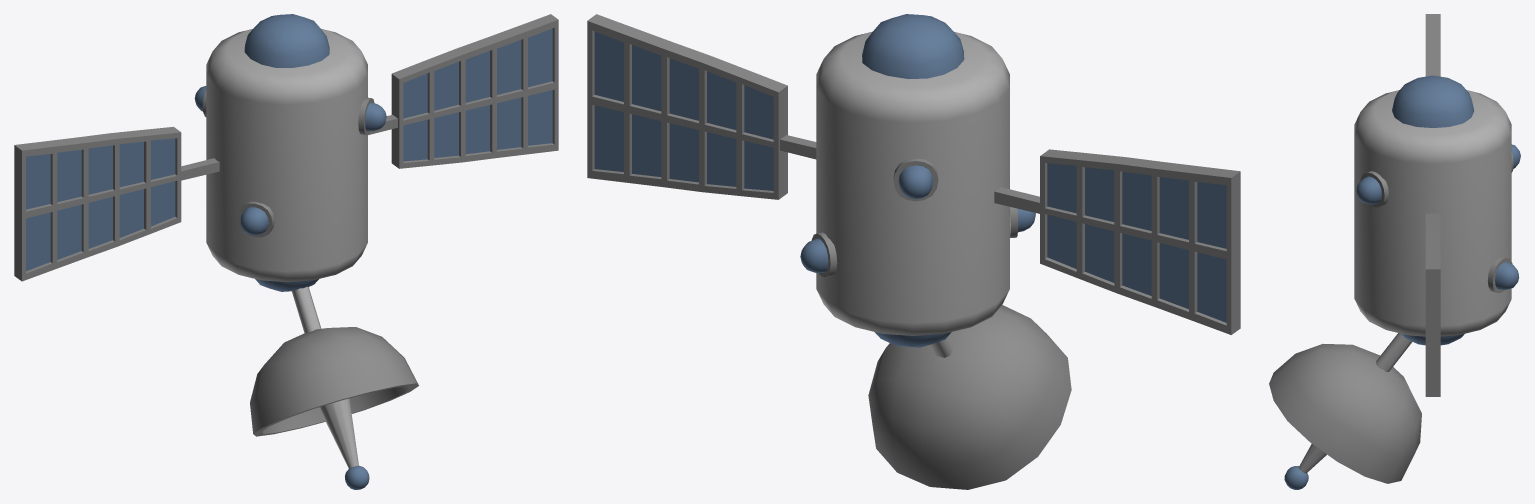
The model's file is satalite.fbx.
3 renders of one model, left to right at view 1: azimuth 30°, elevation 25°; view 2: azimuth 150°, elevation 25°; view 3: azimuth 270°, elevation 25°, orthographic. The views are drawn at different scales.
Visible parts, largest first — view 1: satalite; view 2: satalite; view 3: satalite.
Boxes of the visible parts, bbox=[...] form: satalite: bbox=[14, 14, 558, 489]; satalite: bbox=[587, 14, 1240, 489]; satalite: bbox=[1269, 14, 1520, 489].
Size of the model in its own units: 13.64 by 10.18 by 5.69.
